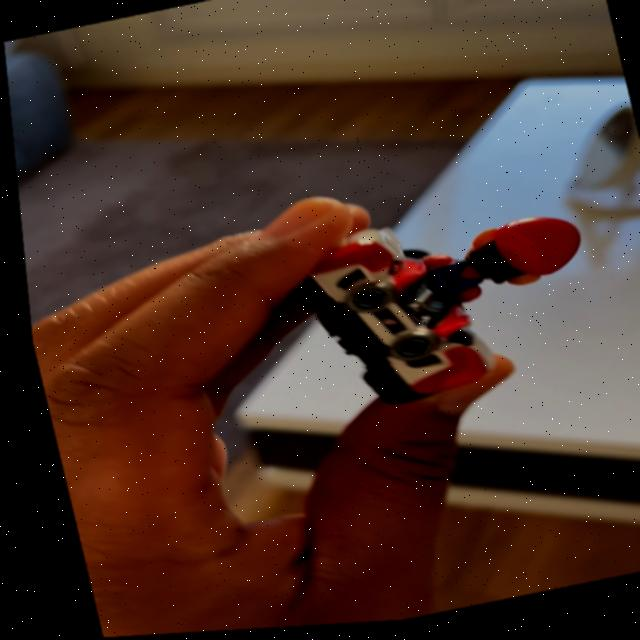mario: (262, 178, 636, 449)
